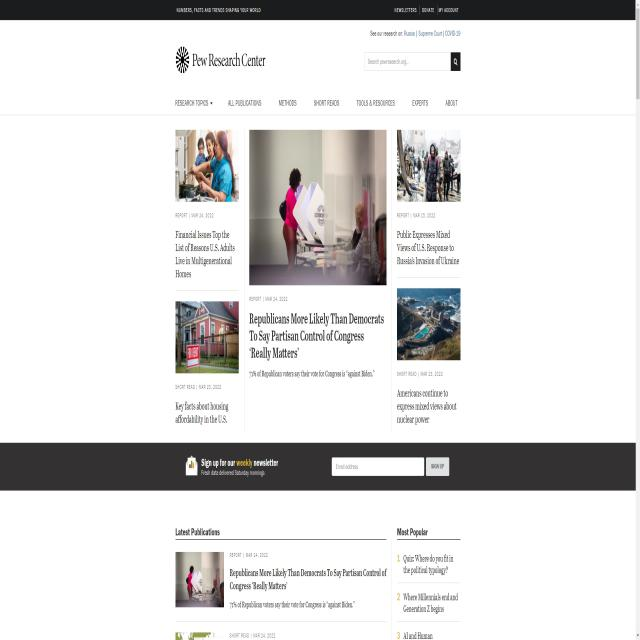search: (364, 47, 462, 72)
tab-bar: (175, 84, 460, 116)
